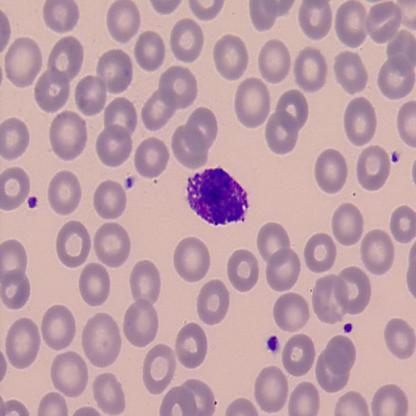Basophil: (183, 165, 251, 228)
